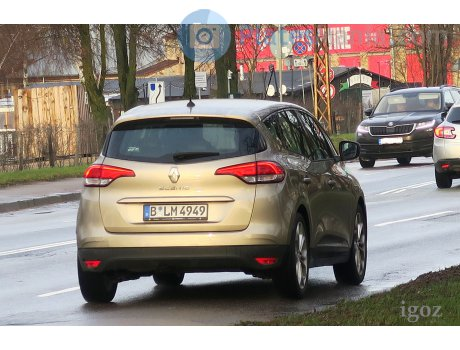License Plates: (137, 201, 209, 216), (374, 131, 416, 148)
